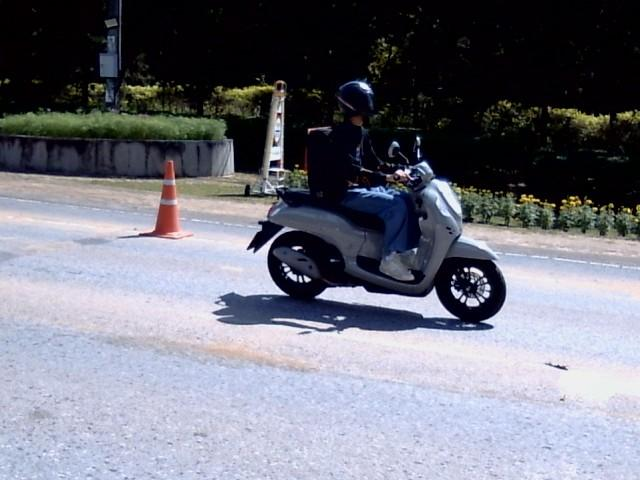helmet: (334, 70, 385, 124)
motor: (248, 161, 505, 321)
person: (309, 80, 420, 280)
